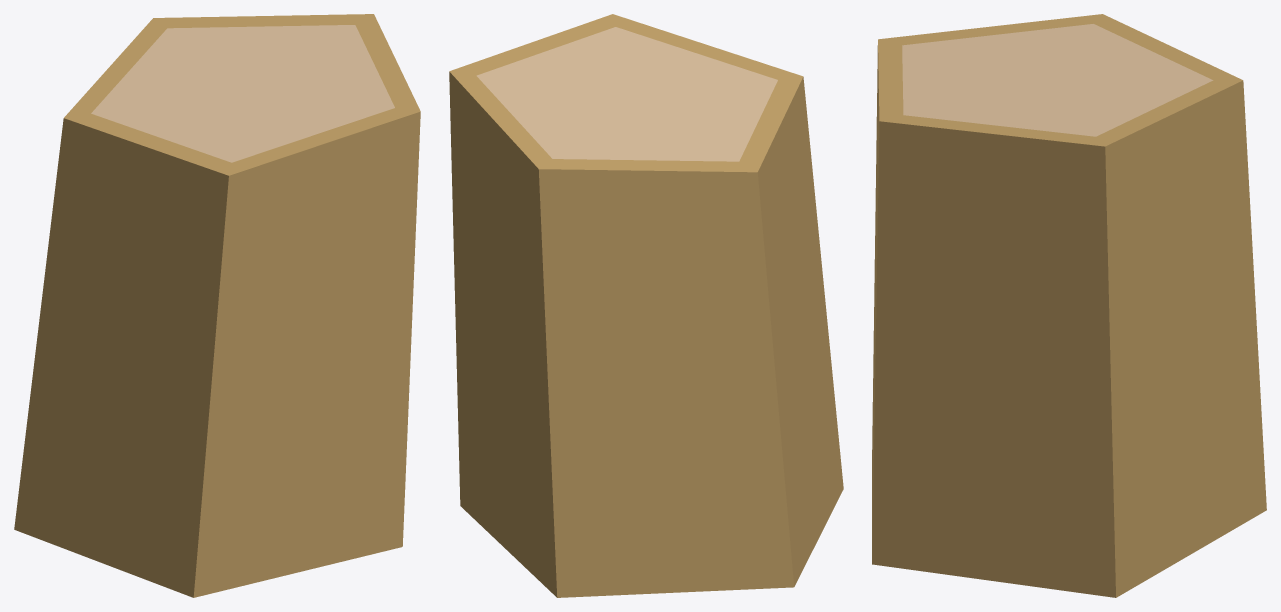
The model's file is Simple_Stump_02.fbx.
The picture shows the model from 3 angles, left to right: view 1: azimuth 30°, elevation 25°; view 2: azimuth 150°, elevation 25°; view 3: azimuth 270°, elevation 25°; orthographic projection. The views are drawn at different scales.
Visible parts, largest first — view 1: Simple_Stump_02; view 2: Simple_Stump_02; view 3: Simple_Stump_02.
Part boxes in pixels (x1,y1,x2,y2): Simple_Stump_02: [14, 14, 420, 597]; Simple_Stump_02: [449, 14, 843, 597]; Simple_Stump_02: [872, 14, 1266, 597].
Size of the model in its own units: 59.82 by 69.74 by 54.27.
